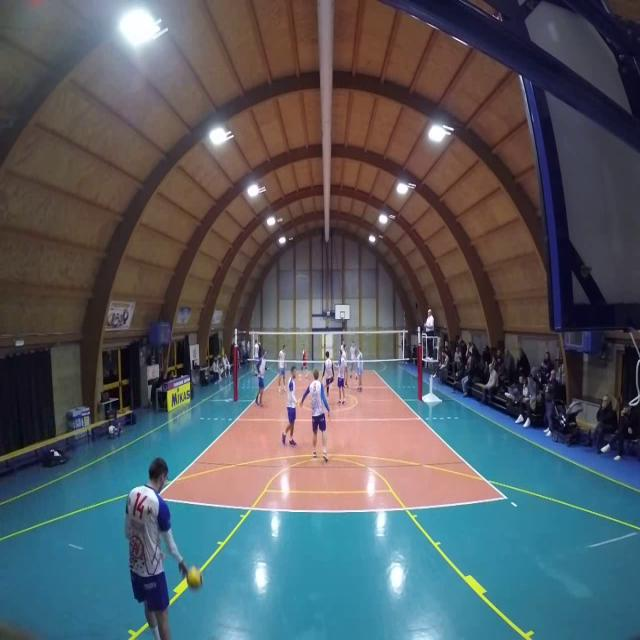Volleyball: (187, 566, 204, 594)
